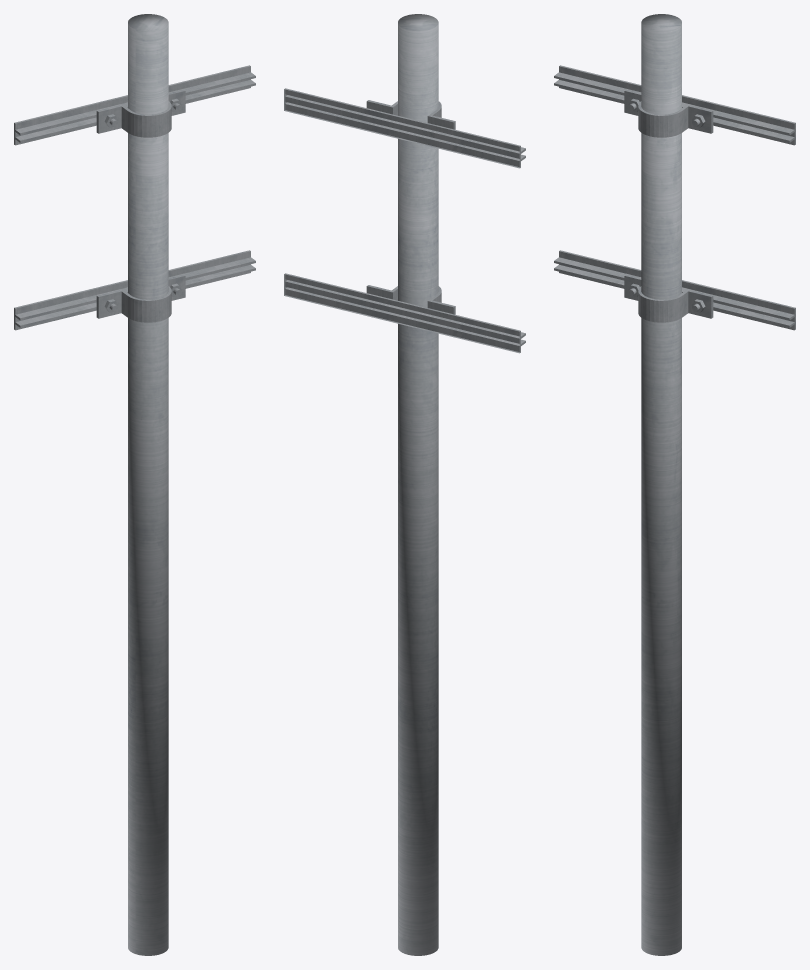
File: Pole_v7__Small_.fbx
3 renders of one model, left to right at view 1: azimuth 30°, elevation 25°; view 2: azimuth 150°, elevation 25°; view 3: azimuth 330°, elevation 25°, orthographic.
Parts seen in each view (by area): view 1: Pole v7 (Small); view 2: Pole v7 (Small); view 3: Pole v7 (Small).
Boxes of the visible parts, box(x1,y1,x2,y2) form: Pole v7 (Small): box(14, 14, 255, 955); Pole v7 (Small): box(284, 14, 525, 955); Pole v7 (Small): box(554, 14, 795, 955).
Bounding box in the file's own units: 0.0826 × 0.4 × 1.5.
